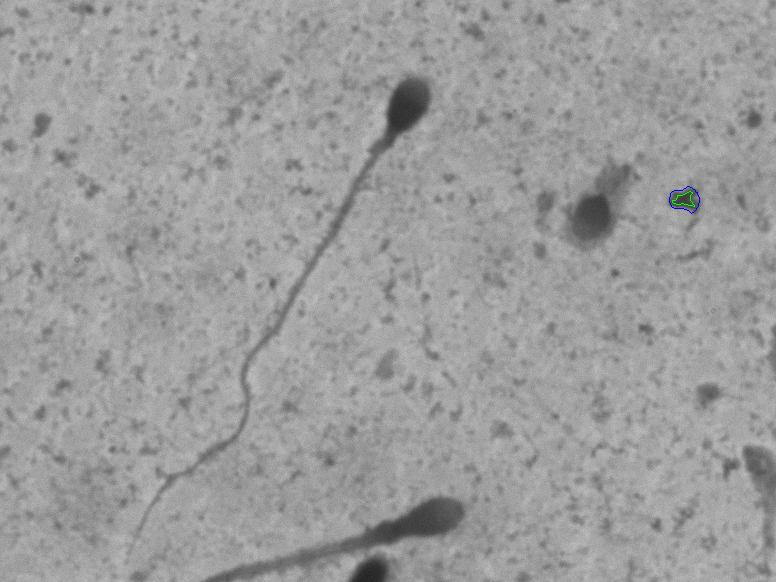Abnormal: (512, 114, 661, 269)
Normal: (110, 47, 462, 567)
